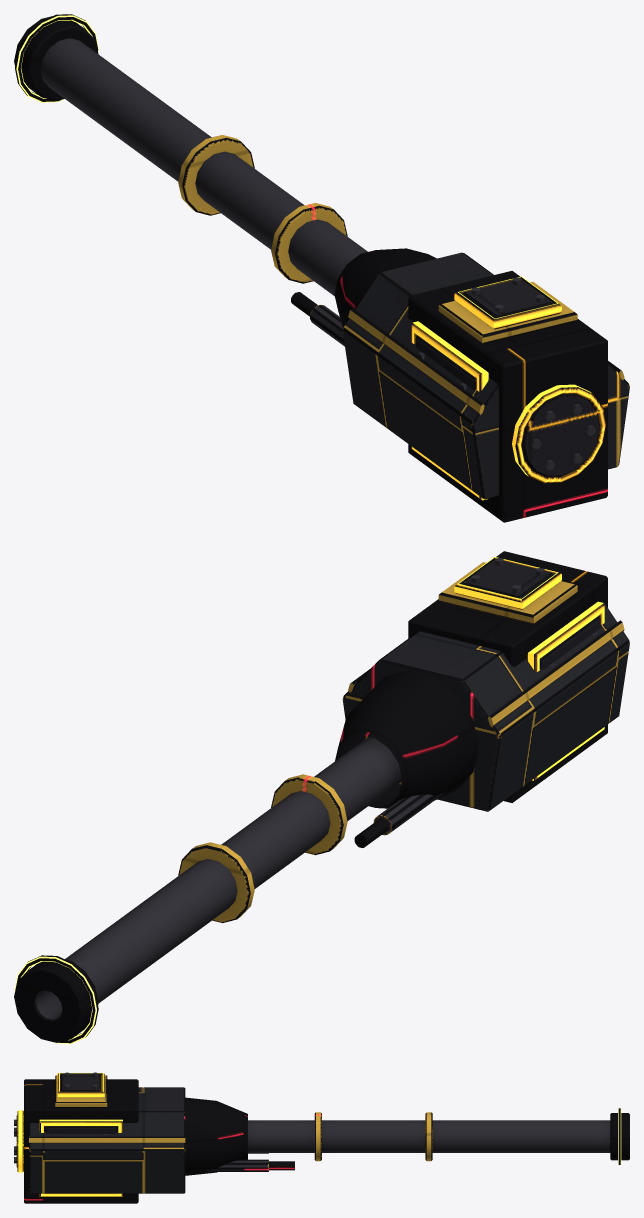
The model's file is canon_balistico_t4.fbx.
The picture shows the model from 3 angles, top to bottom: view 1: azimuth 30°, elevation 25°; view 2: azimuth 150°, elevation 25°; view 3: azimuth 270°, elevation 25°; orthographic projection. The views are drawn at different scales.
Parts seen in each view (by area): view 1: canon_balistico_t4.001, canon_balistico_t4_canon; view 2: canon_balistico_t4.001, canon_balistico_t4_canon; view 3: canon_balistico_t4.001, canon_balistico_t4_canon.
Boxes of the visible parts, <box> form: canon_balistico_t4.001: <box>15,14,629,522</box>; canon_balistico_t4_canon: <box>14,16,436,328</box>; canon_balistico_t4.001: <box>15,551,629,1043</box>; canon_balistico_t4_canon: <box>14,671,478,1042</box>; canon_balistico_t4.001: <box>14,1072,620,1203</box>; canon_balistico_t4_canon: <box>185,1097,629,1175</box>.
Bounding box in the file's own units: 2.09 × 2.31 × 11.82.
